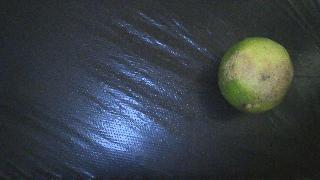DESECHO: (218, 37, 294, 113)
